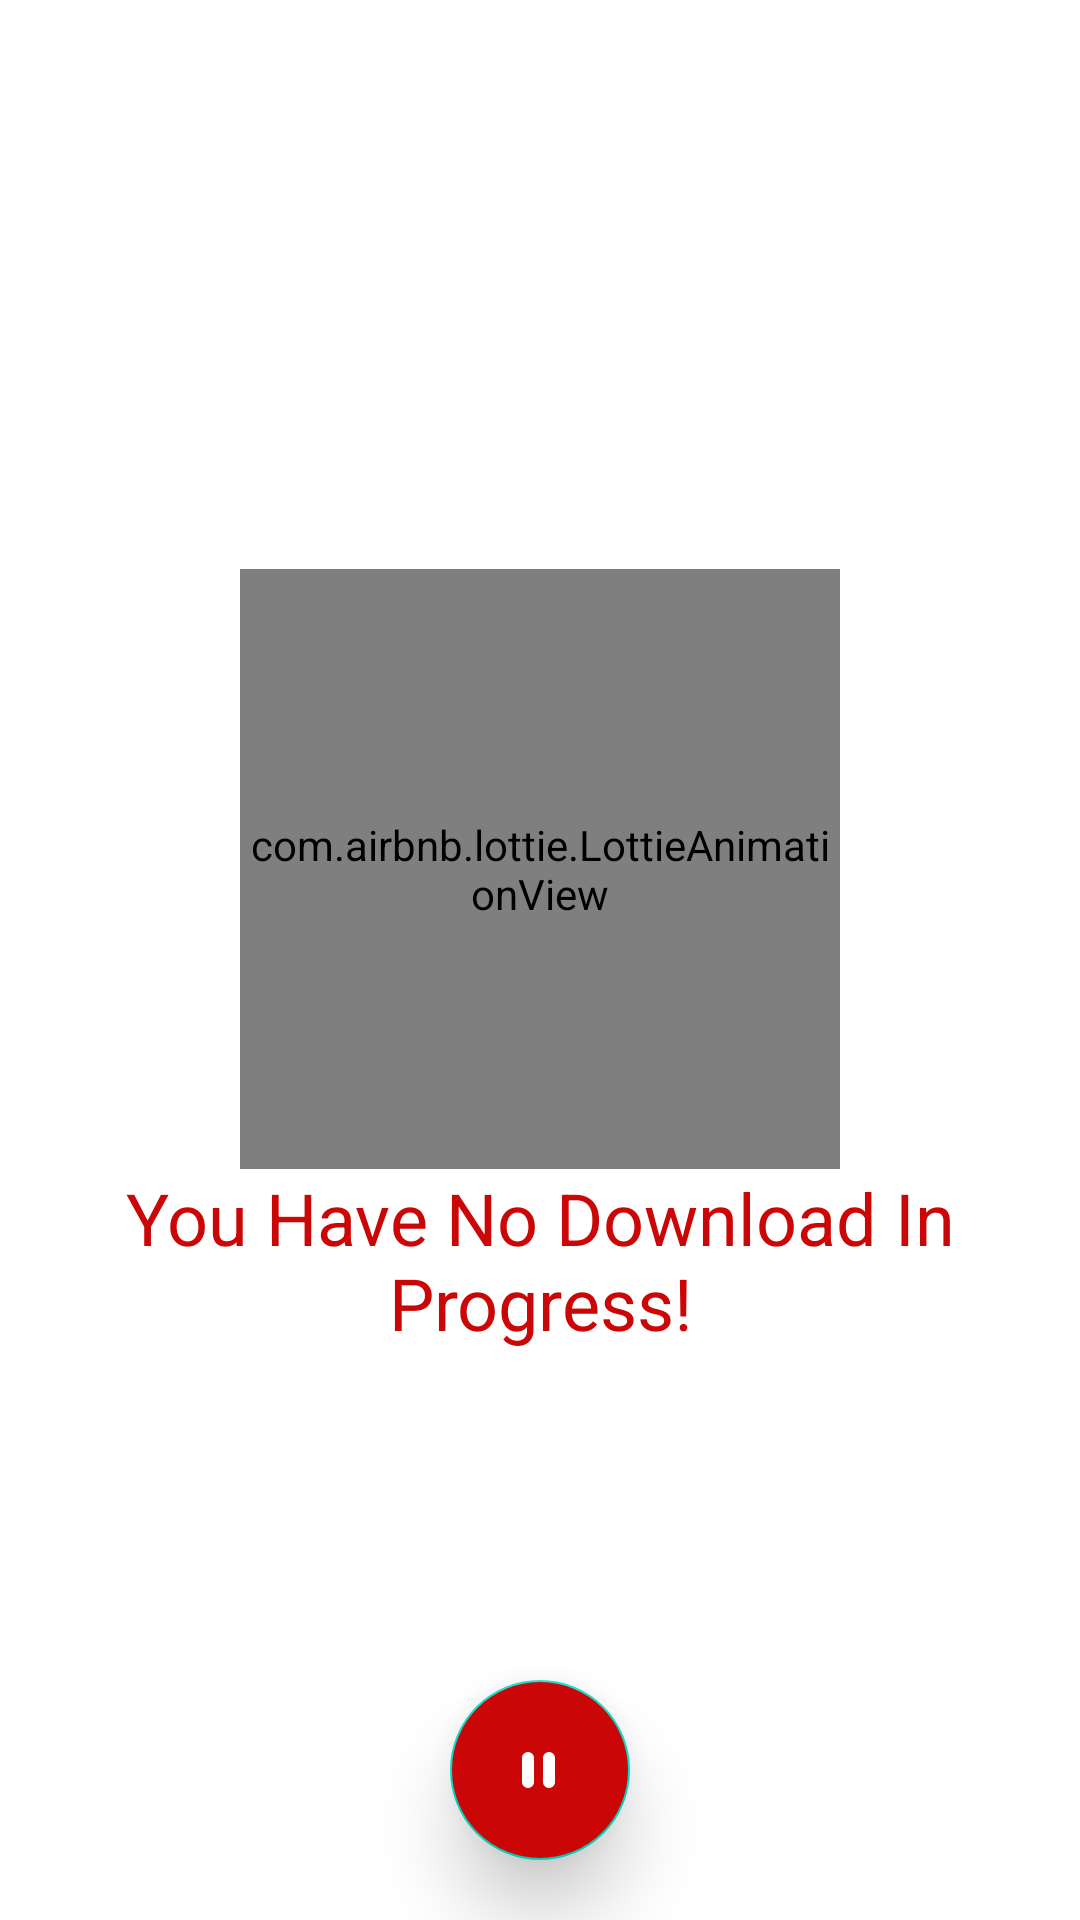

Screen size 1080 × 1920. Icon name, then its center in pixels as point (x, y):
pause: point (540, 1770)
